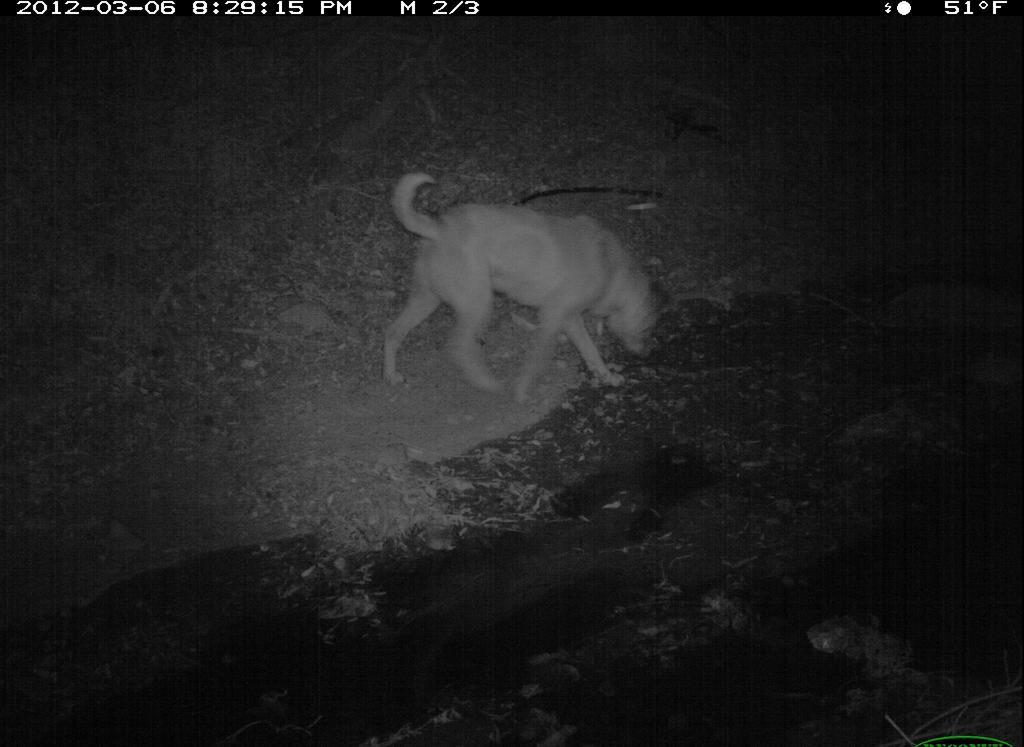dog: (374, 166, 679, 410)
